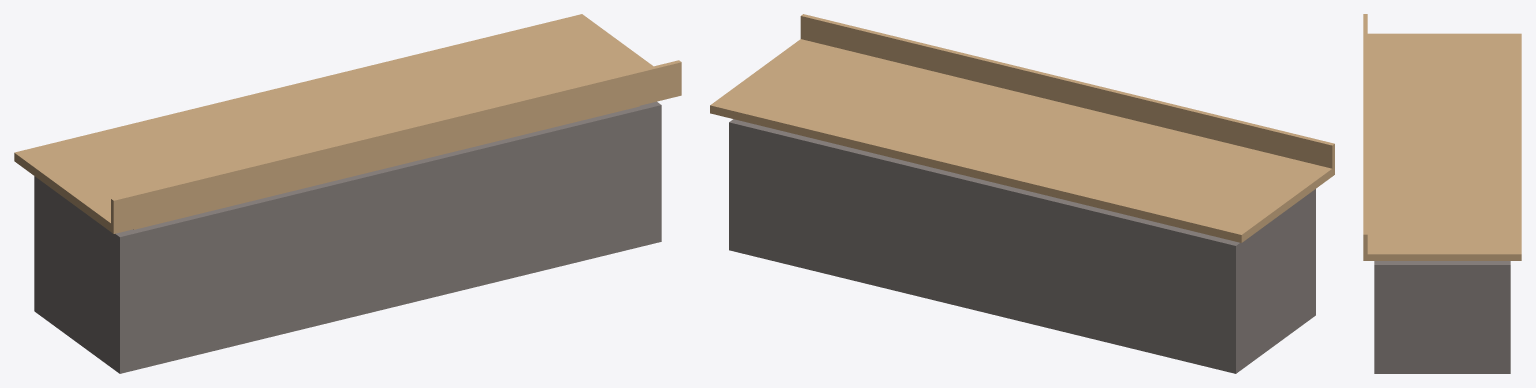
Rendered from Bench1 1.fbx.
The picture shows the model from 3 angles, left to right: view 1: azimuth 30°, elevation 25°; view 2: azimuth 150°, elevation 25°; view 3: azimuth 270°, elevation 25°; orthographic projection. The views are drawn at different scales.
Visible parts, largest first — view 1: Cube; view 2: Cube; view 3: Cube.
Boxes of the visible parts, bbox=[...] form: Cube: bbox=[14, 14, 681, 373]; Cube: bbox=[710, 14, 1334, 373]; Cube: bbox=[1363, 14, 1521, 373].
Bounding box in the file's own units: 512 × 156 × 156.
